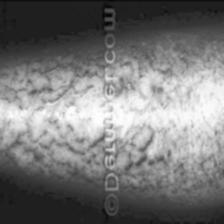Non-Cancerous Skin Condition: (115, 55, 223, 182)
